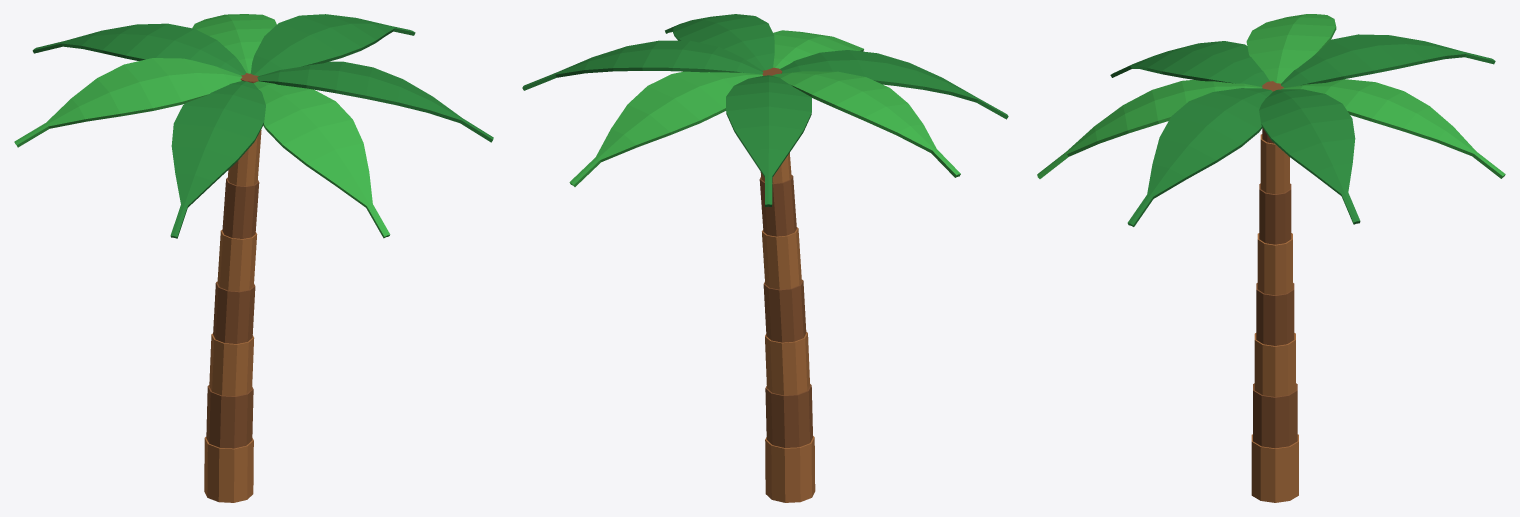
The model's file is palm.glb.
3 renders of one model, left to right at view 1: azimuth 30°, elevation 25°; view 2: azimuth 150°, elevation 25°; view 3: azimuth 270°, elevation 25°, orthographic.
Visible parts, largest first — view 1: palm_mesh; view 2: palm_mesh; view 3: palm_mesh.
Part boxes in pixels (box(x1,y1,x2,y2)): palm_mesh: box(14, 14, 493, 502); palm_mesh: box(522, 14, 1008, 502); palm_mesh: box(1037, 14, 1505, 502).
Size of the model in its own units: 6.61 by 6.51 by 6.38.
